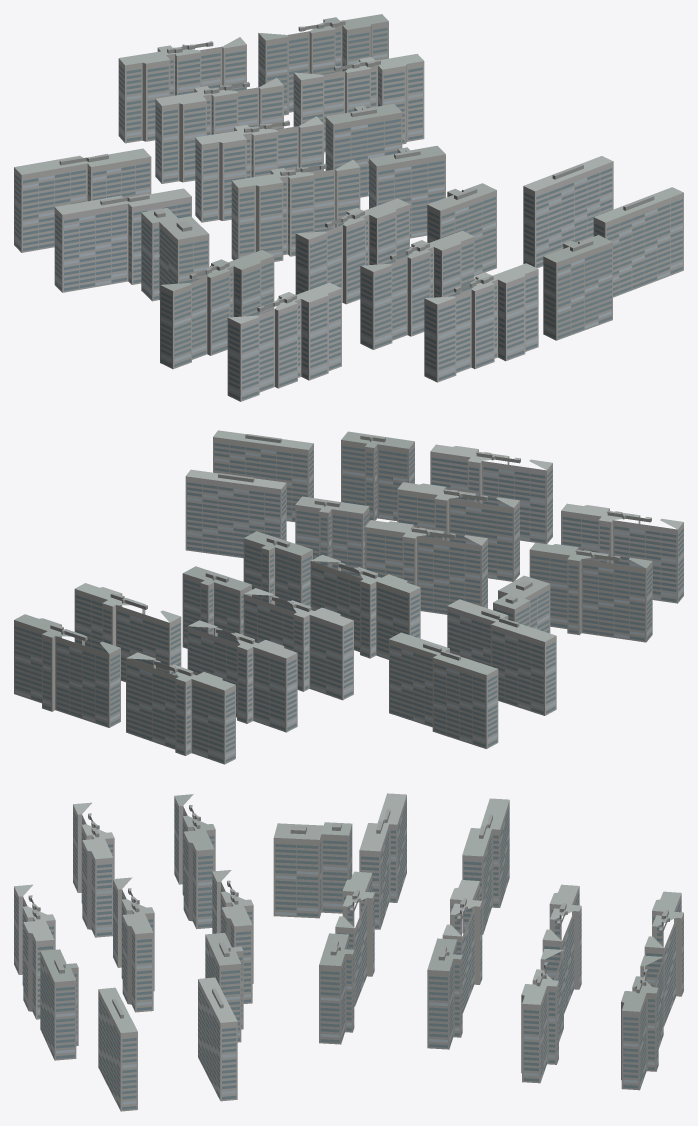
Rendered from apt-a13920803.glb.
3 renders of one model, top to bottom at view 1: azimuth 30°, elevation 25°; view 2: azimuth 150°, elevation 25°; view 3: azimuth 270°, elevation 25°, orthographic. The views are drawn at different scales.
Parts seen in each view (by area): view 1: apt-a13920803; view 2: apt-a13920803; view 3: apt-a13920803.
Part boxes in pixels (left/top/right/bottom): apt-a13920803: left=14, top=14, right=683, bottom=401; apt-a13920803: left=14, top=430, right=683, bottom=764; apt-a13920803: left=14, top=793, right=683, bottom=1111.
Size of the model in its own units: 300 by 47.81 by 354.
